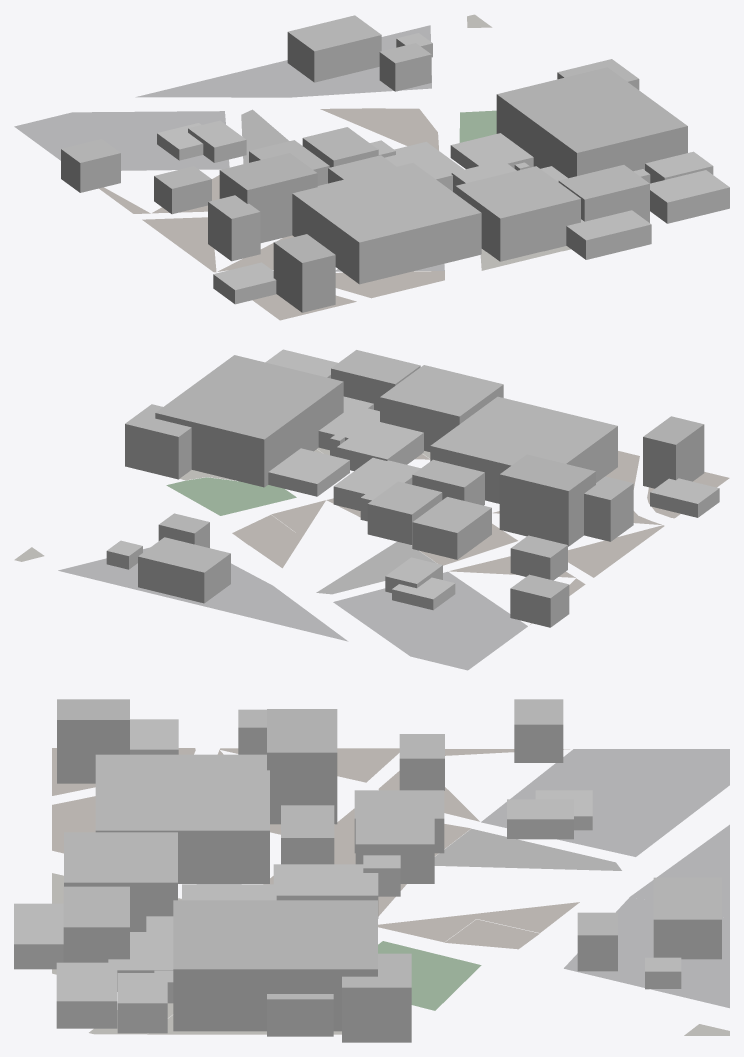
The model's file is 105_95_mid.glb.
The picture shows the model from 3 angles, top to bottom: view 1: azimuth 30°, elevation 25°; view 2: azimuth 150°, elevation 25°; view 3: azimuth 270°, elevation 25°; orthographic projection. The views are drawn at different scales.
Size of the model in its own units: 533 by 59.11 by 528.
